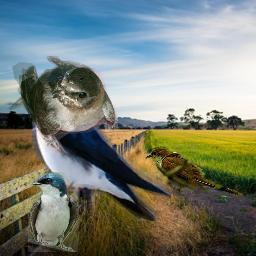Cuckoo: (145, 146, 243, 197)
Swallow: (32, 69, 171, 221), (6, 56, 118, 156), (28, 172, 79, 252)
